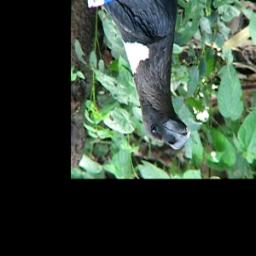Crow: (94, 0, 192, 149)
